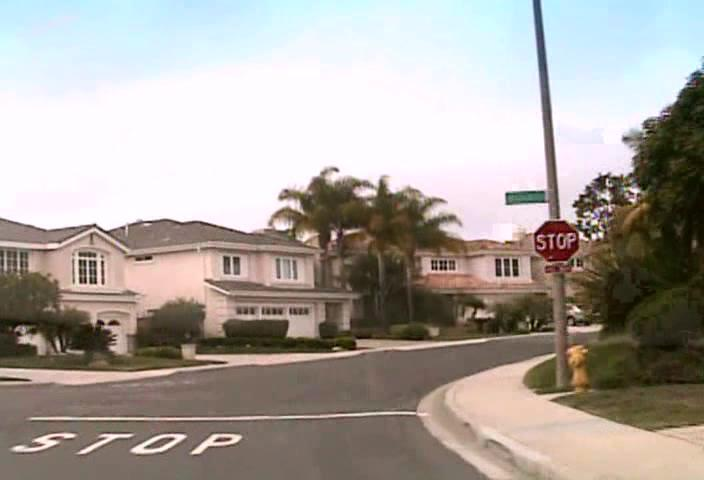stop: (533, 219, 580, 262)
